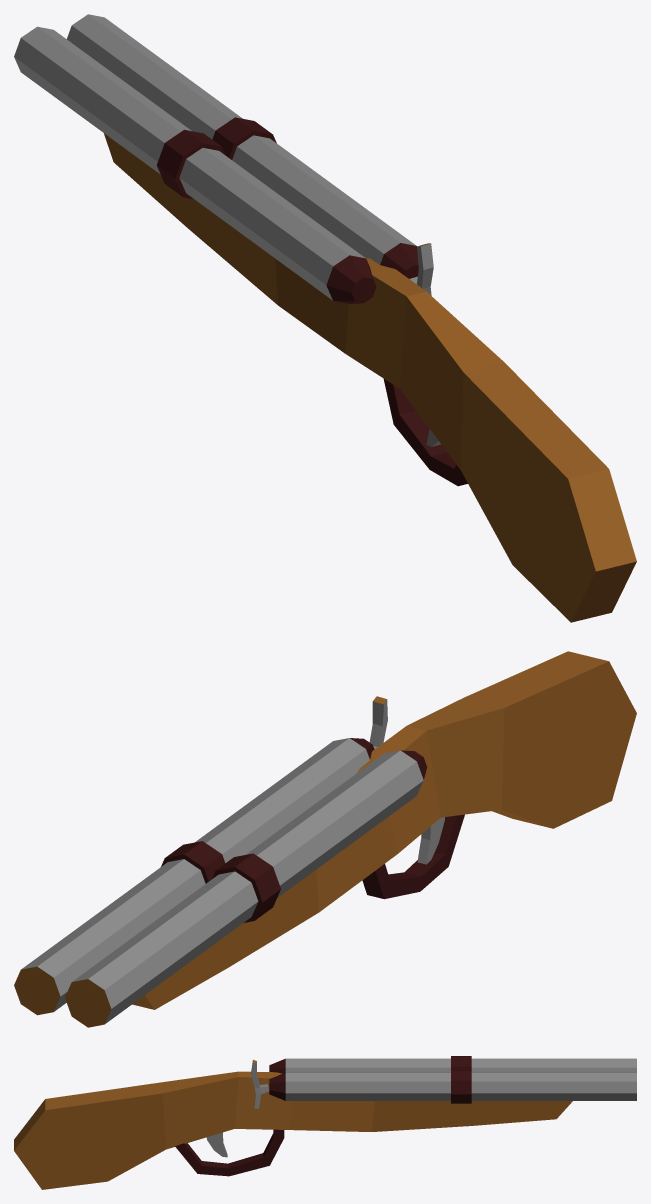
File: Shotgun.glb
The picture shows the model from 3 angles, top to bottom: view 1: azimuth 30°, elevation 25°; view 2: azimuth 150°, elevation 25°; view 3: azimuth 270°, elevation 25°; orthographic projection. The views are drawn at different scales.
Visible parts, largest first — view 1: Shotgun; view 2: Shotgun; view 3: Shotgun.
Boxes of the visible parts, box(x1,y1,x2,y2) form: Shotgun: box(14, 14, 636, 622); Shotgun: box(14, 651, 636, 1027); Shotgun: box(14, 1056, 636, 1189).
Size of the model in its own units: 1.43 by 2.97 by 12.93.
